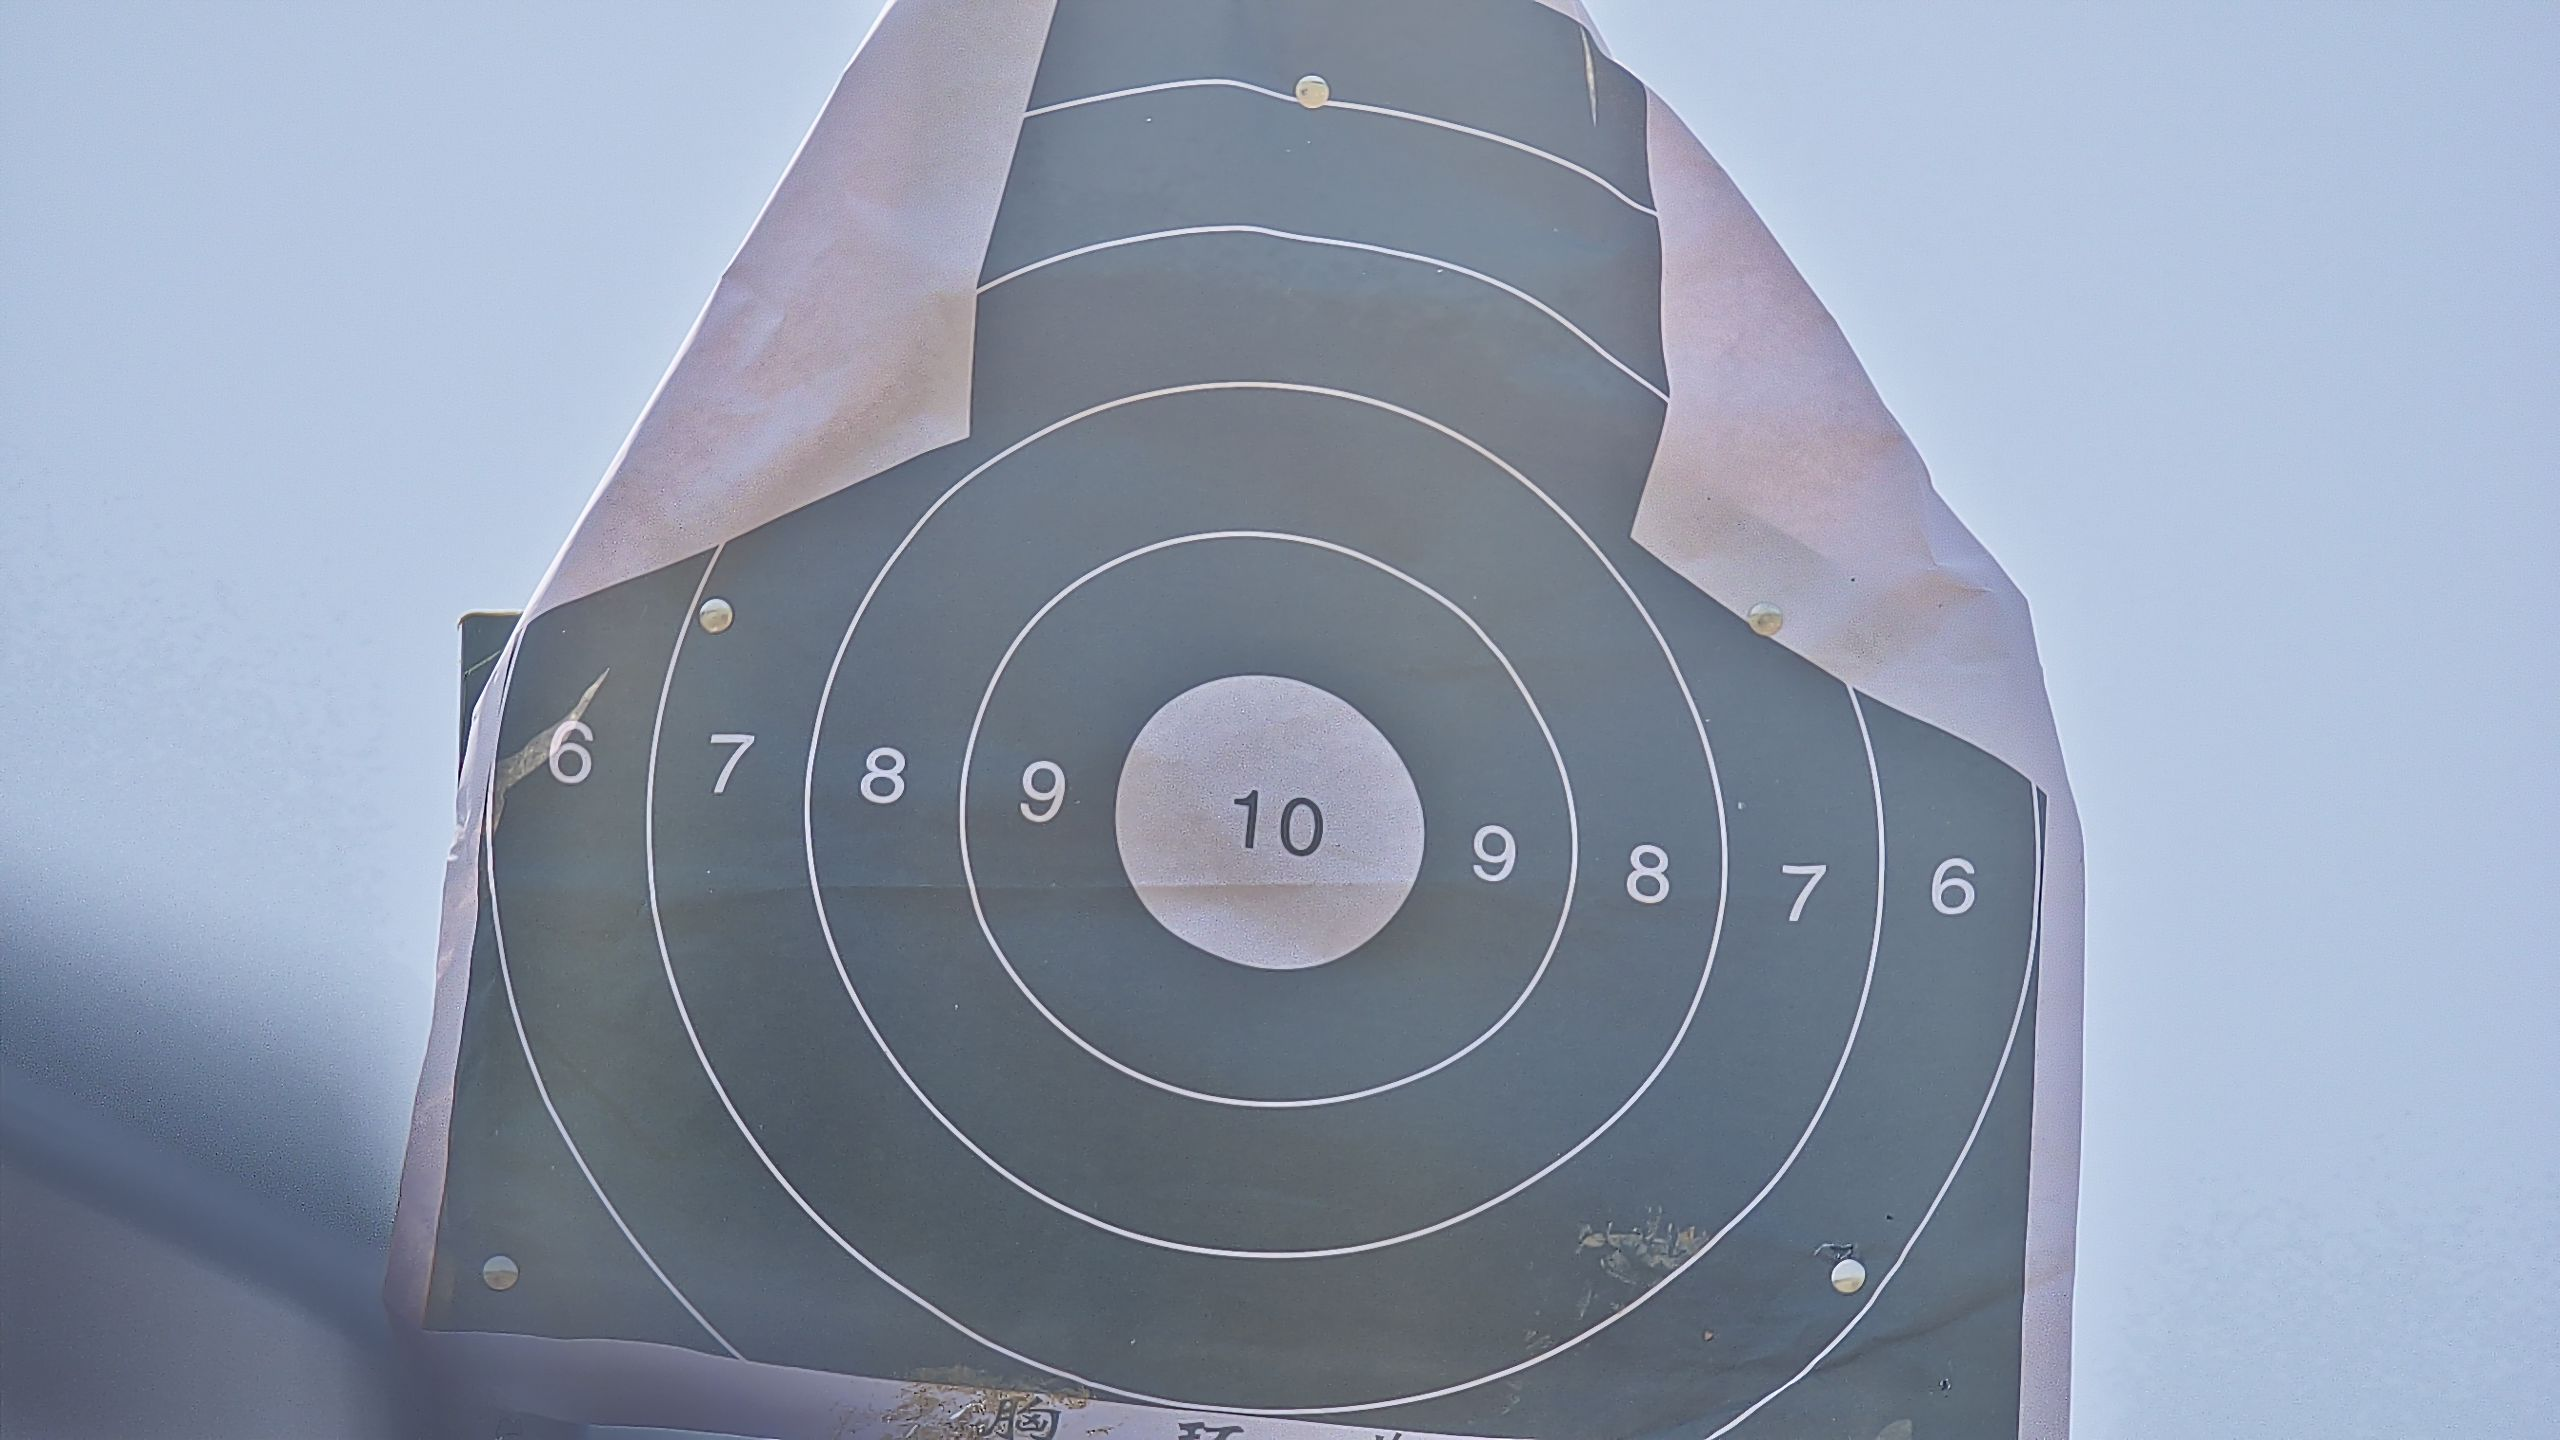kernel: (1264, 819, 1271, 828)
target: (415, 2, 2054, 1440)
ten: (1115, 673, 1428, 972)
